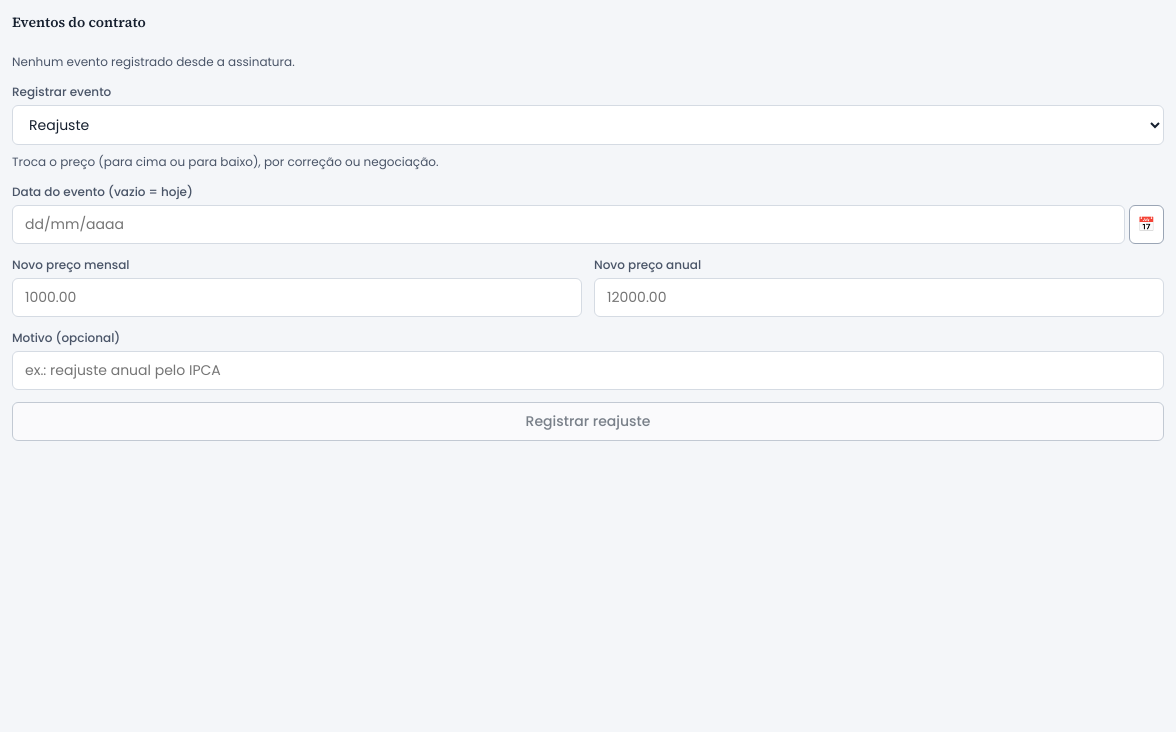
EventosDeContrato › a categoria 'Outro' exige texto; as demais, não
Step 1. Select "Encerramento" in the dropdown labelled "Registrar evento" → (588, 125), box [12,105,1164,145]
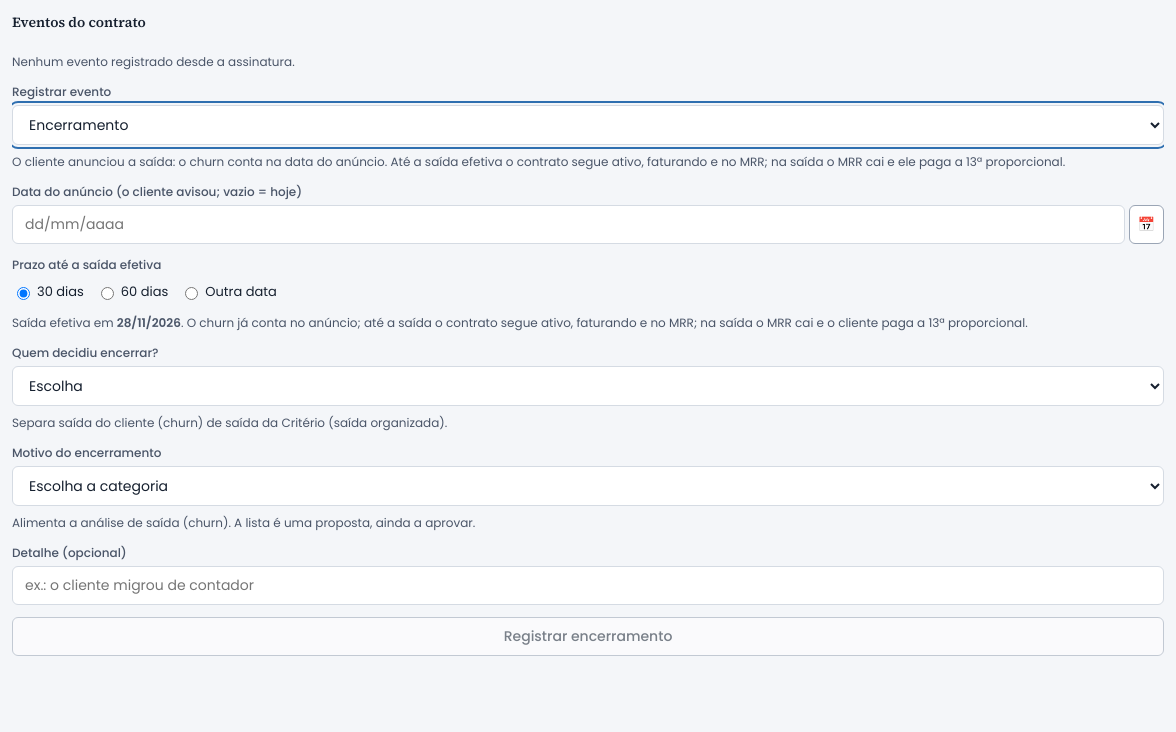
Step 2. Select "Cliente" in the dropdown labelled "Quem decidiu encerrar?" → (588, 386), box [12,366,1164,406]
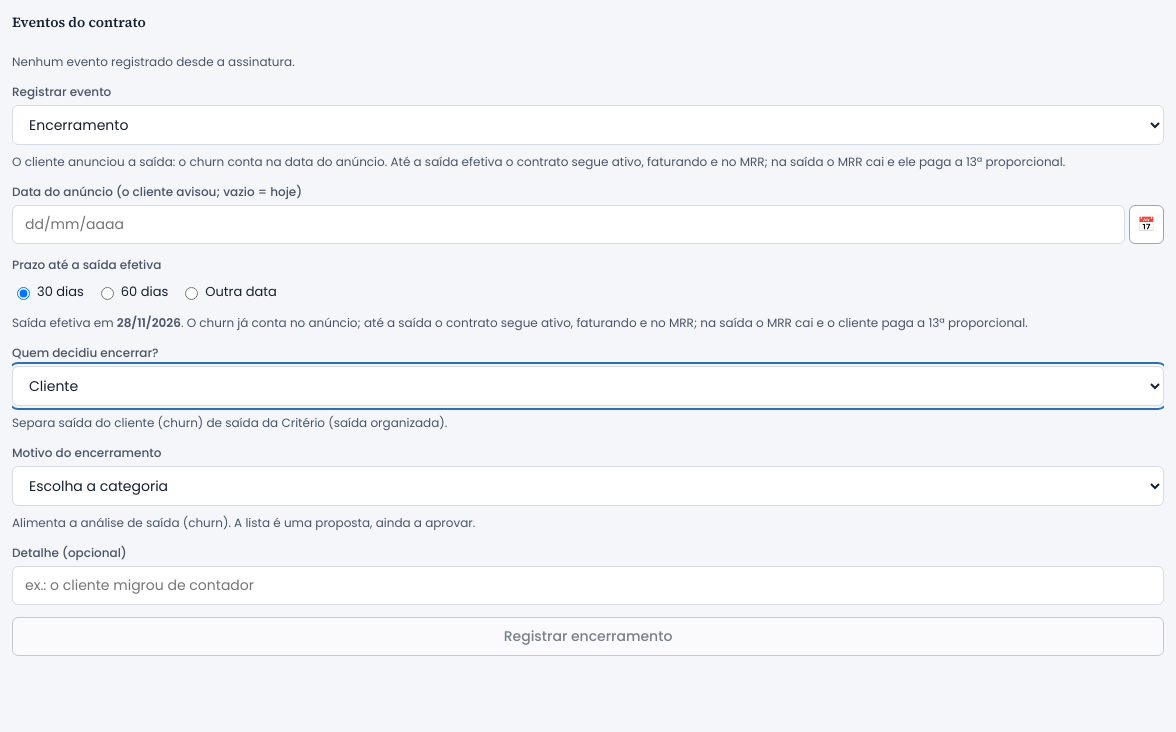
Step 3. Select "Outro" in the dropdown labelled "Motivo do encerramento" → (588, 486), box [12,466,1164,506]
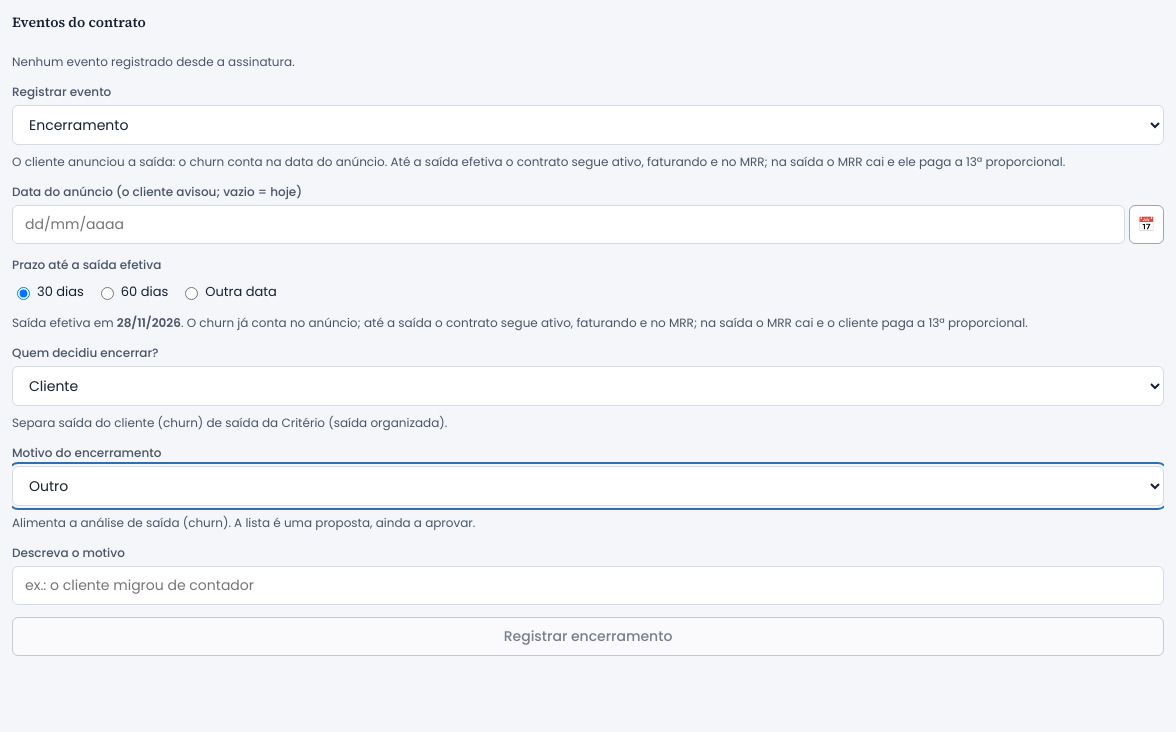
Check: the button "Registrar encerramento" is disabled, box [12,616,1164,656]
Step 4. Type "fusão com outra empresa" into the field labelled "Descreva o motivo" → (588, 585), box [12,566,1164,604]
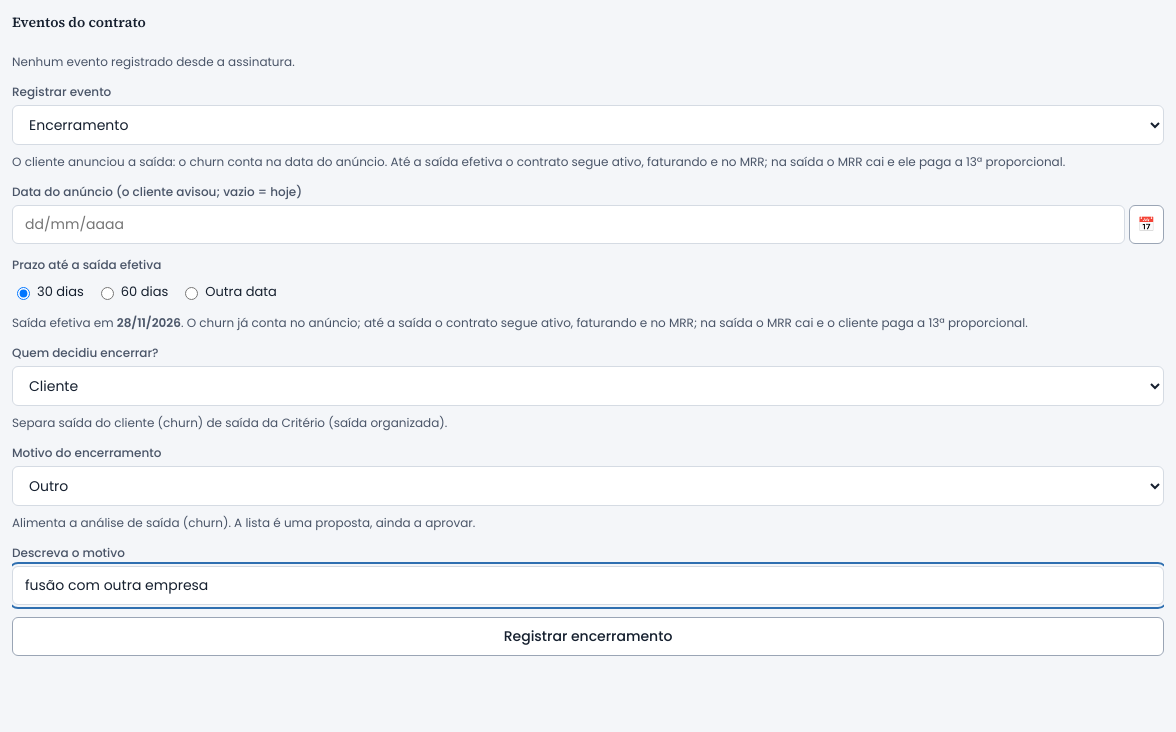
Check: the button "Registrar encerramento" is enabled, box [12,616,1164,656]
